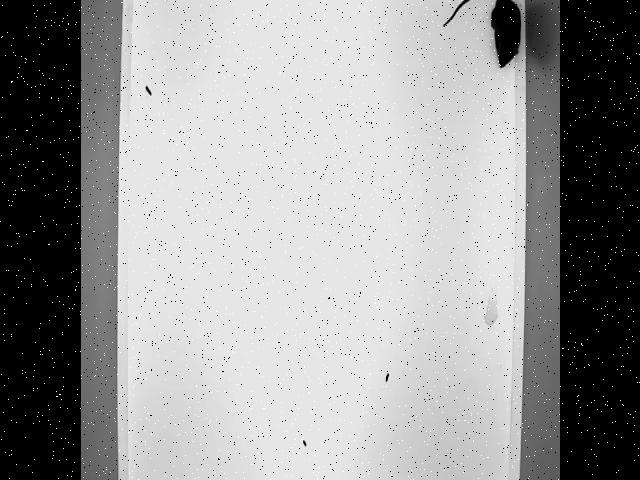Tikus: (439, 0, 523, 87)
